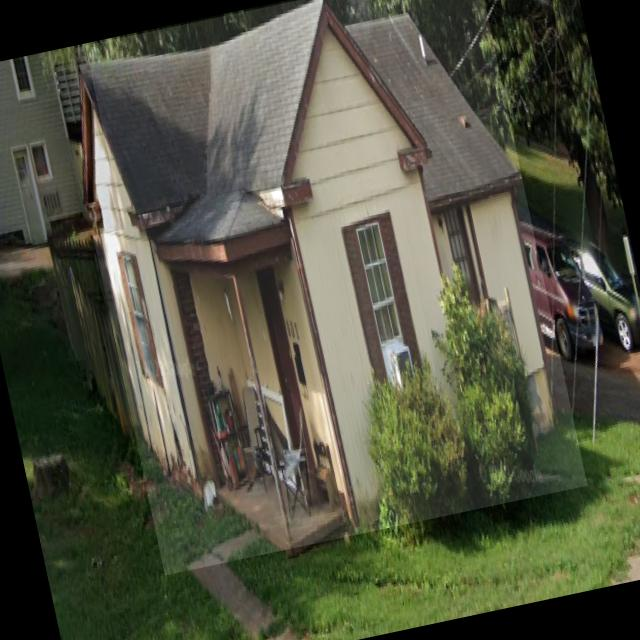House: (53, 0, 587, 575), (0, 44, 123, 259)
